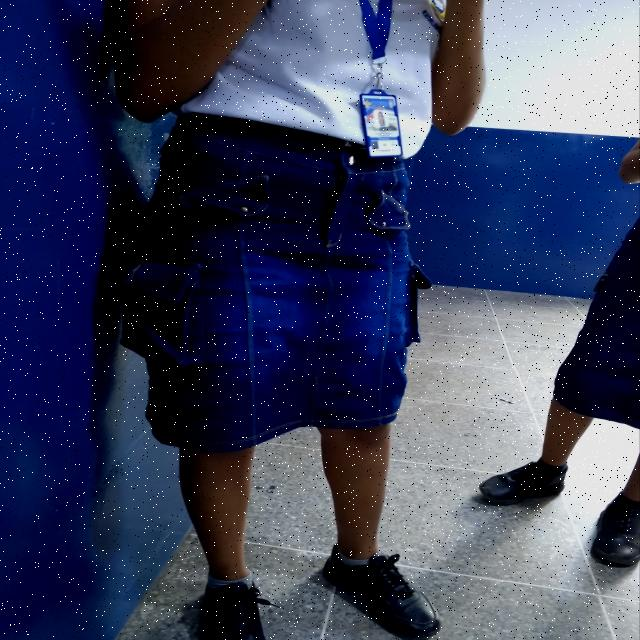carnet: (363, 98, 400, 157)
pantalon_oscuro: (130, 136, 417, 454), (552, 217, 640, 430)
